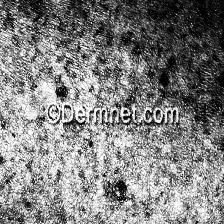Benign Marking or Mole: (118, 84, 128, 97)
